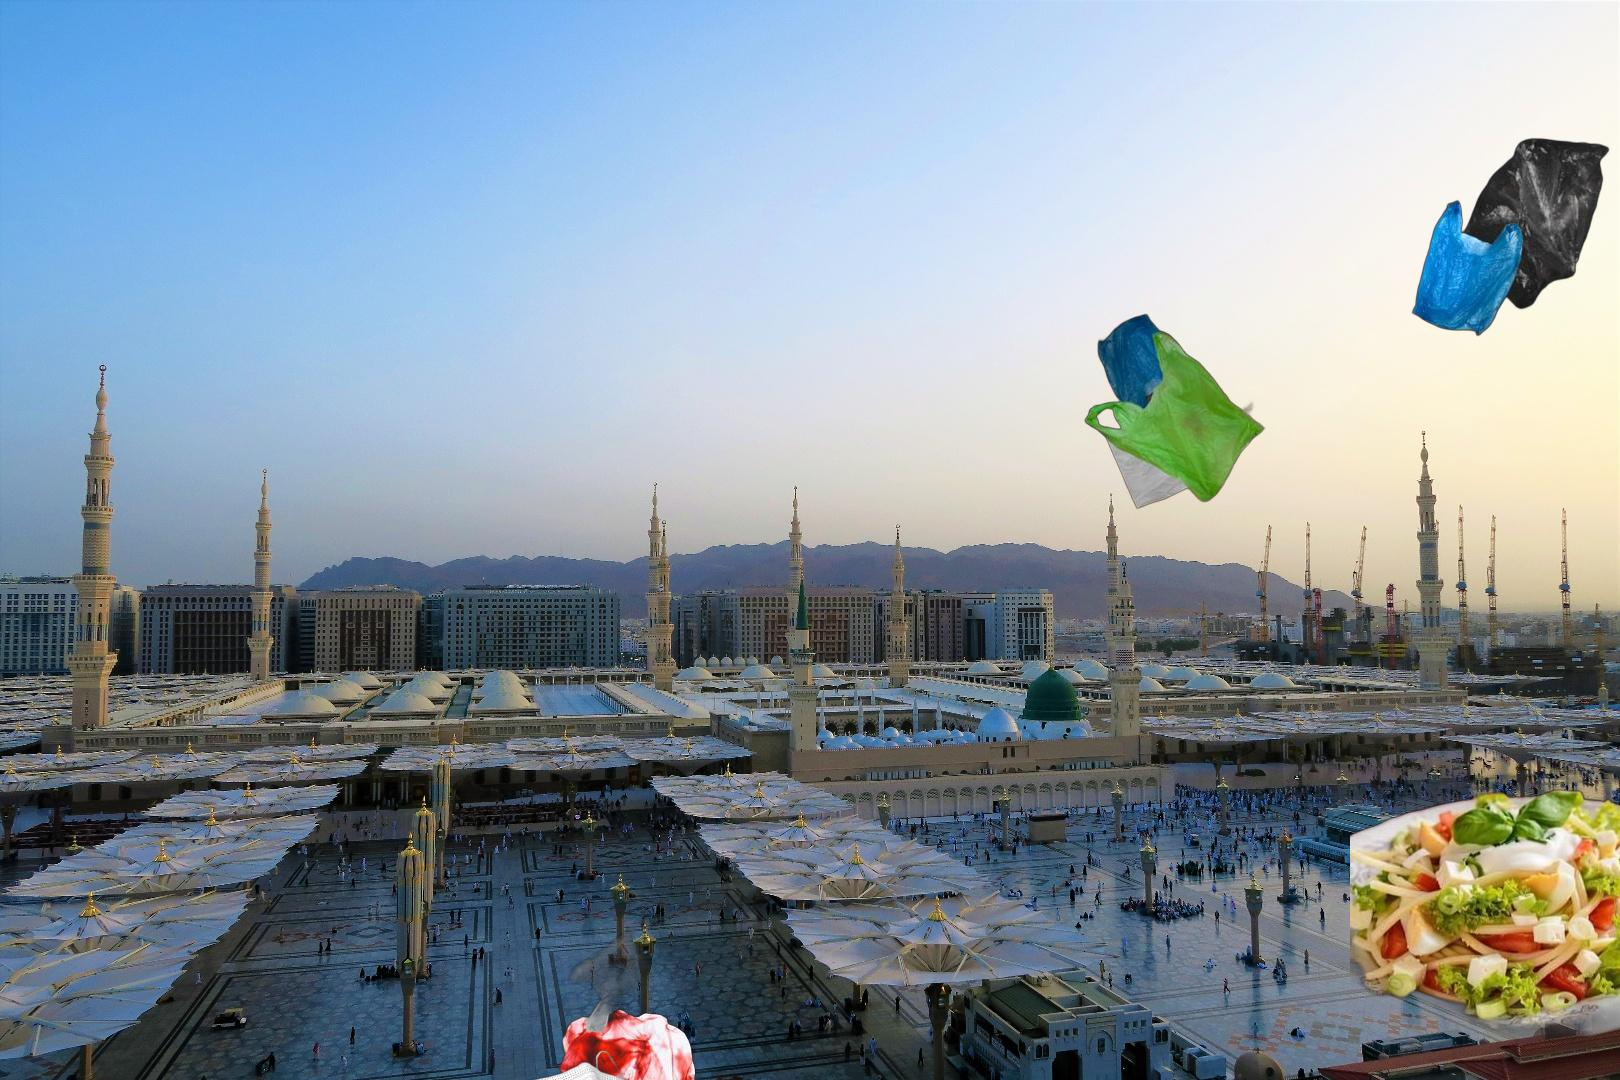biological: (1350, 787, 1620, 1044)
plastic-bag: (1409, 137, 1612, 337), (1082, 311, 1267, 510), (554, 925, 712, 1080)
trash: (457, 1047, 636, 1080)
trashbox-cardboard: (1600, 934, 1620, 1080)
